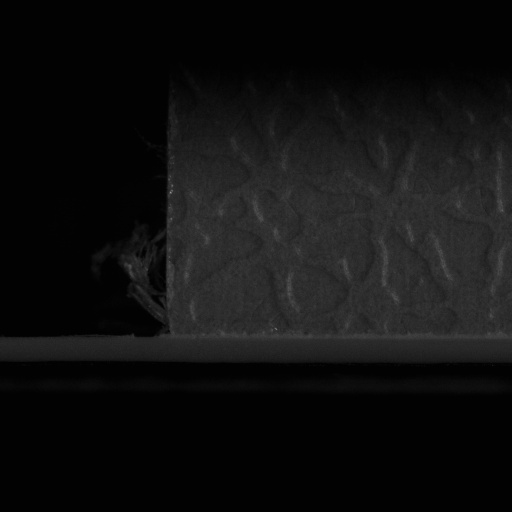changdai: (3, 332, 169, 364)
